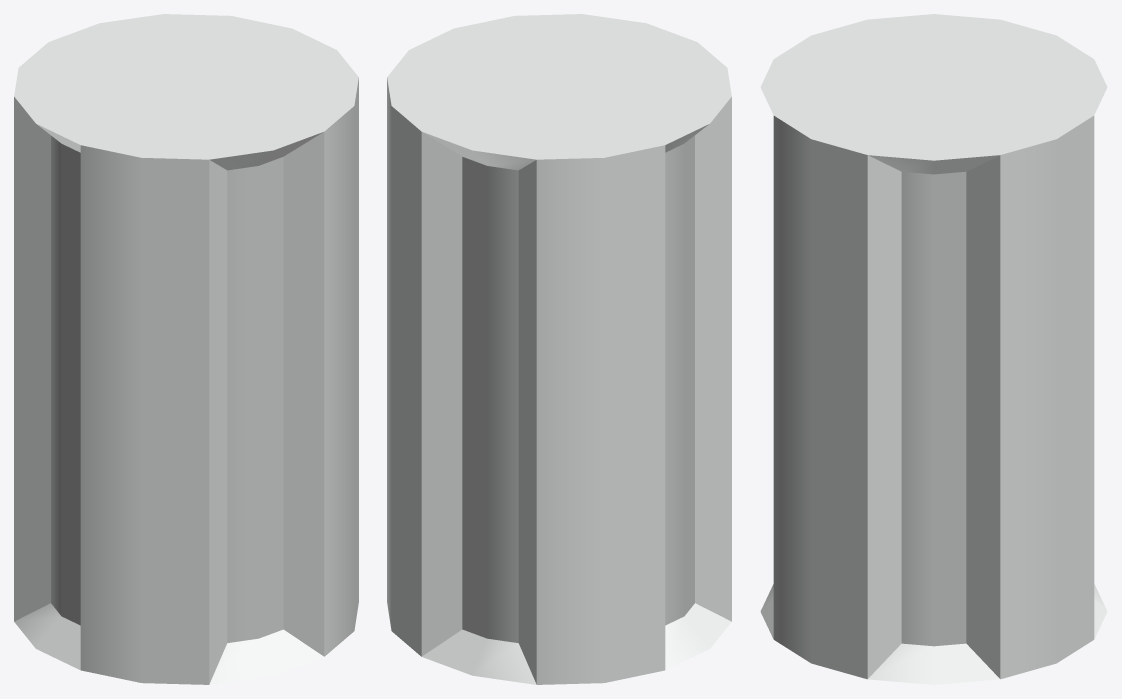
The model's file is cot 4.fbx.
3 renders of one model, left to right at view 1: azimuth 30°, elevation 25°; view 2: azimuth 150°, elevation 25°; view 3: azimuth 270°, elevation 25°, orthographic.
Parts seen in each view (by area): view 1: cot_4; view 2: cot_4; view 3: cot_4.
Part boxes in pixels (x1,y1,x2,y2): cot_4: [14, 14, 358, 684]; cot_4: [387, 14, 731, 684]; cot_4: [760, 14, 1107, 684].
Bounding box in the file's own units: 6 × 10 × 6.
1 material, 1 textured.
